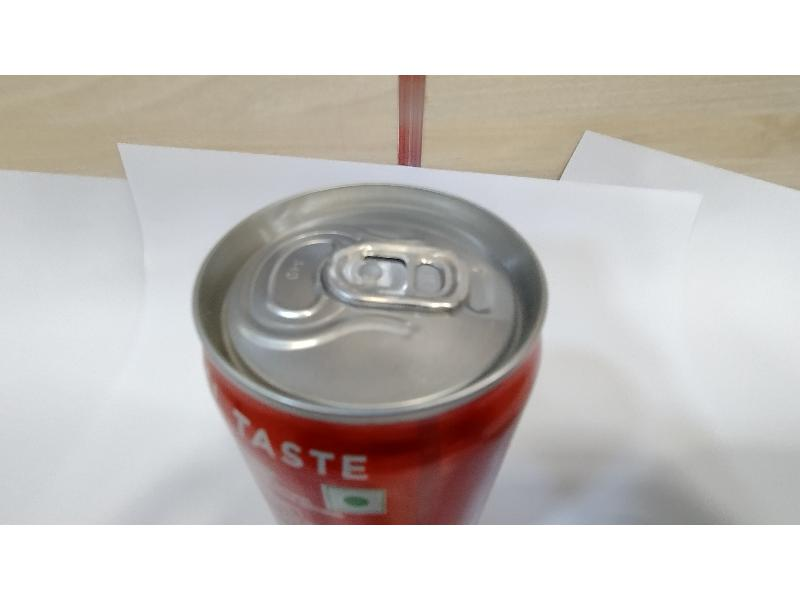can: (188, 180, 552, 522)
